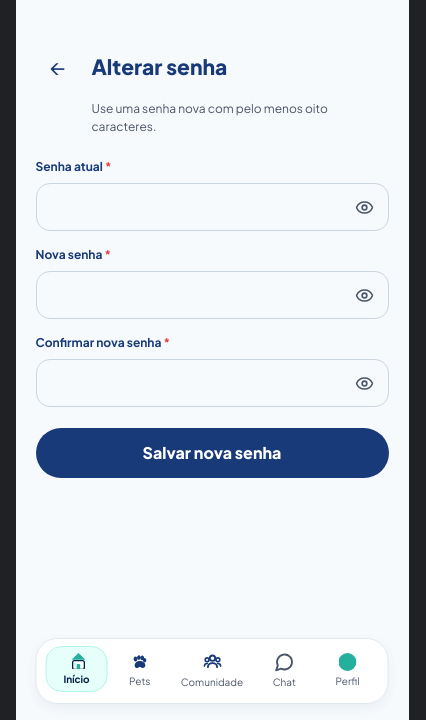
mostra e oculta cada senha de forma independente nas configurações
The width and height of the screenshot is (426, 720).
Step 1. Click the button named "Mostrar senha" below "Senha atual" → (364,207), box left=342, top=185, right=386, bottom=229
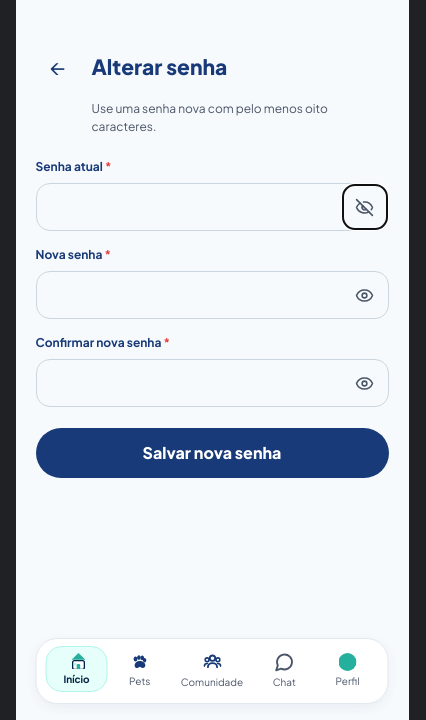
Now the button named "Ocultar senha" is shown, box left=342, top=185, right=386, bottom=229
